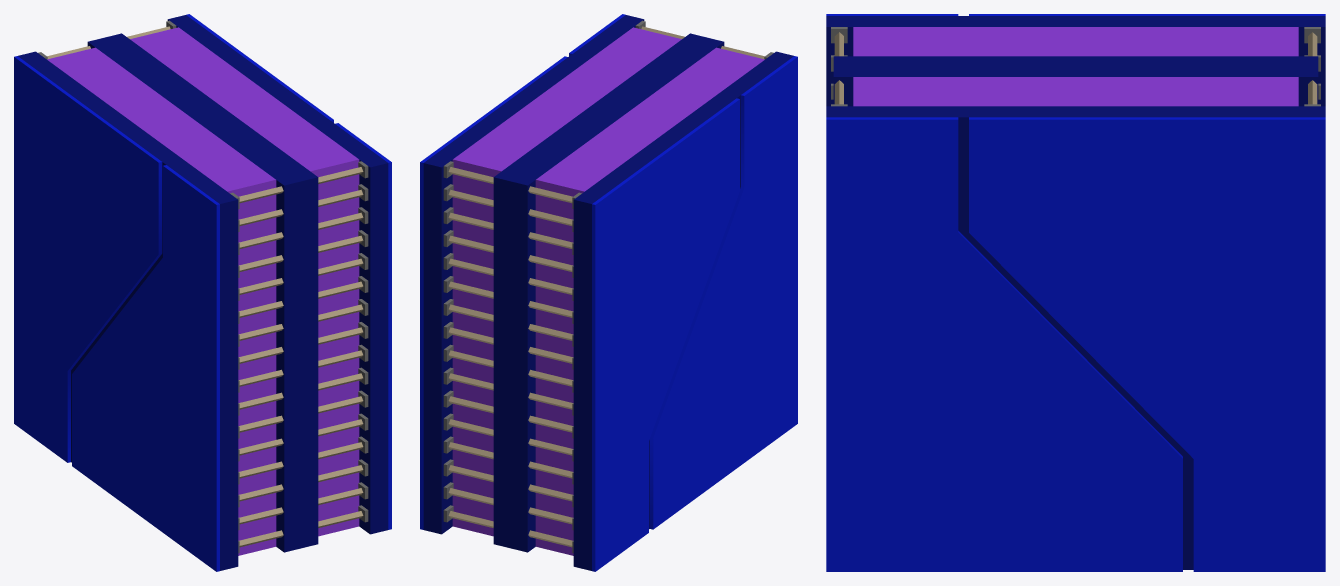
Rendered from BT_Wall_A_01.fbx.
The picture shows the model from 3 angles, left to right: view 1: azimuth 30°, elevation 25°; view 2: azimuth 150°, elevation 25°; view 3: azimuth 270°, elevation 25°; orthographic projection. The views are drawn at different scales.
Parts seen in each view (by area): view 1: BT_Wall_A_01; view 2: BT_Wall_A_01; view 3: BT_Wall_A_01.
Part boxes in pixels (left/top/right/bottom): BT_Wall_A_01: left=14, top=14, right=391, bottom=571; BT_Wall_A_01: left=420, top=14, right=797, bottom=571; BT_Wall_A_01: left=826, top=14, right=1325, bottom=571.
Size of the model in its own units: 100 by 200 by 200.
